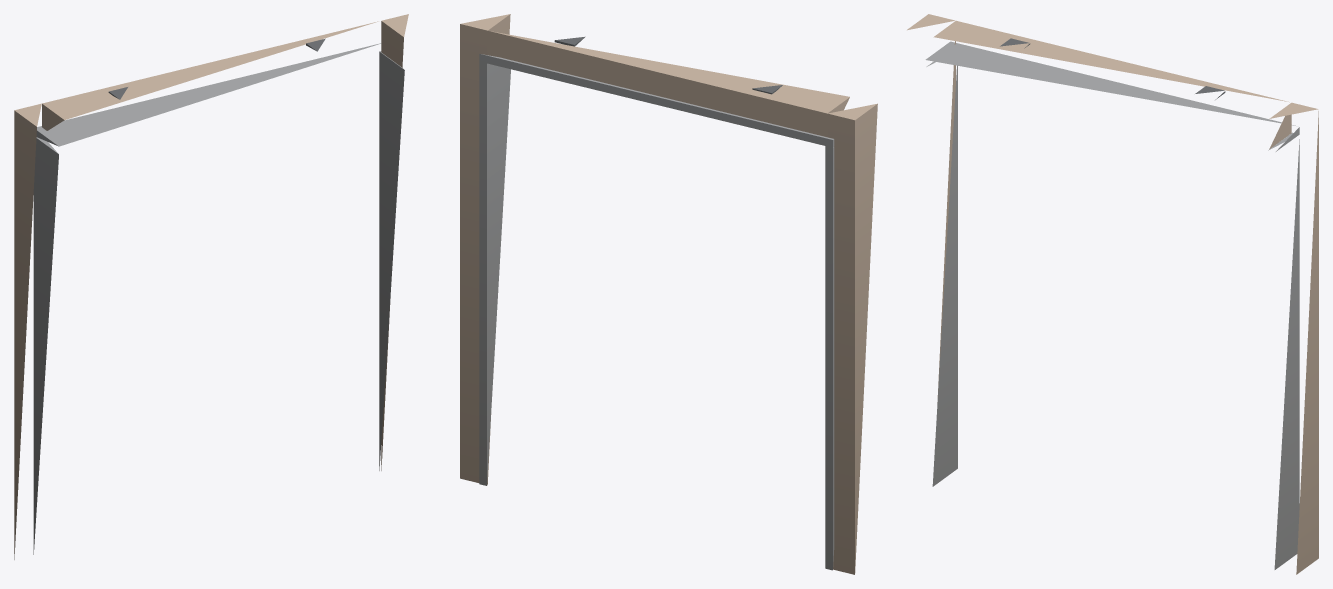
File: openFrame_regocrete_meshin.glb
3 views of the same model, side by side, from view 1: azimuth 30°, elevation 25°; view 2: azimuth 150°, elevation 25°; view 3: azimuth 330°, elevation 25° (orthographic).
Parts seen in each view (by area): view 1: openFrame_regocrete_meshin; view 2: openFrame_regocrete_meshin; view 3: openFrame_regocrete_meshin.
Part boxes in pixels (bbox=[...]): openFrame_regocrete_meshin: bbox=[14, 14, 408, 559]; openFrame_regocrete_meshin: bbox=[460, 14, 877, 574]; openFrame_regocrete_meshin: bbox=[907, 14, 1318, 574].
Size of the model in its own units: 2 by 2.21 by 0.224.
